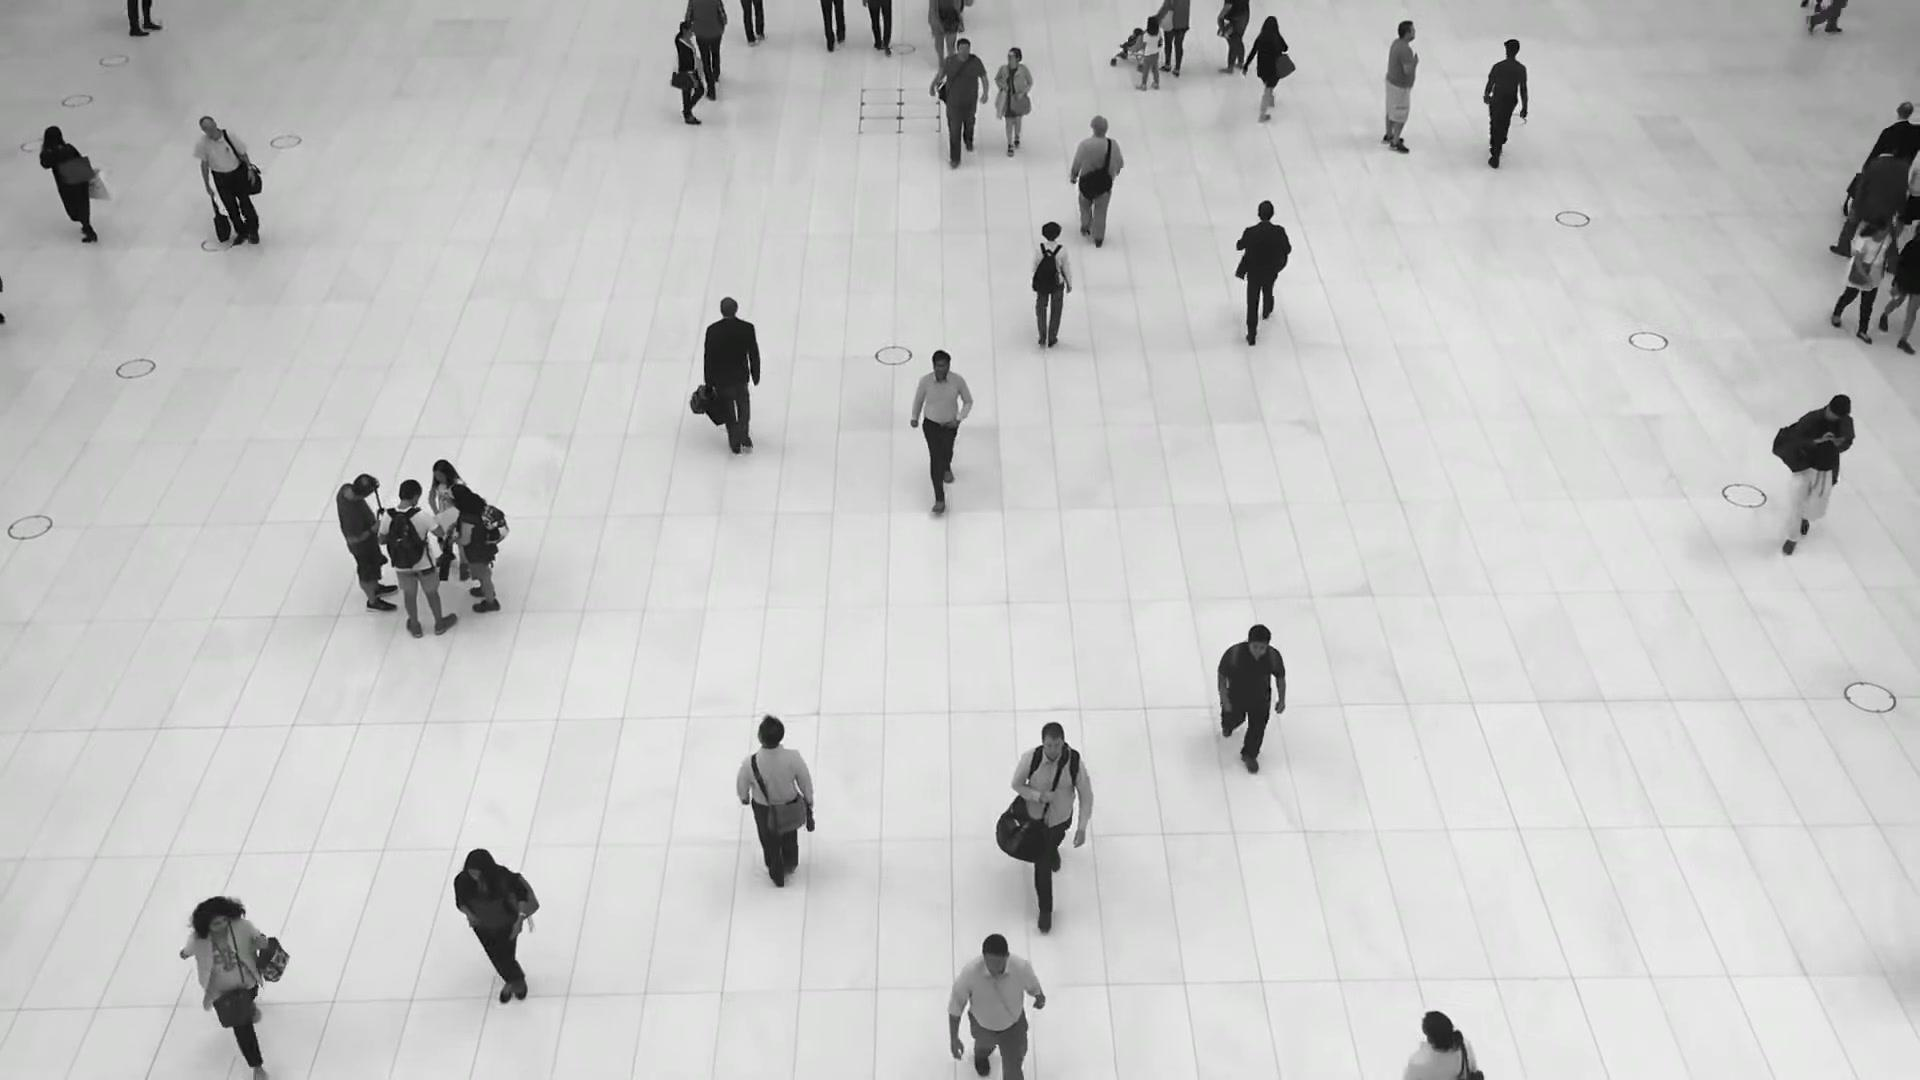person: (177, 893, 272, 1080), (1009, 719, 1092, 917), (735, 716, 818, 902), (949, 931, 1050, 1080), (454, 852, 530, 1037), (377, 477, 459, 638), (1780, 394, 1856, 564), (1209, 622, 1289, 775), (703, 297, 762, 466), (1828, 137, 1910, 258), (910, 348, 971, 510), (194, 117, 261, 256), (335, 467, 400, 611), (1235, 198, 1294, 349), (1832, 213, 1894, 339), (929, 36, 989, 164), (1068, 116, 1124, 255), (39, 125, 98, 245), (449, 482, 501, 613), (1479, 39, 1530, 172), (1027, 222, 1071, 357), (670, 23, 723, 125), (1382, 18, 1419, 152), (1243, 13, 1289, 121), (426, 459, 465, 580), (994, 47, 1034, 160), (684, 0, 728, 86), (1136, 16, 1162, 91)
